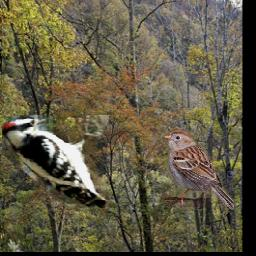Sparrow: (164, 130, 233, 211)
Woodpecker: (1, 116, 108, 209)
